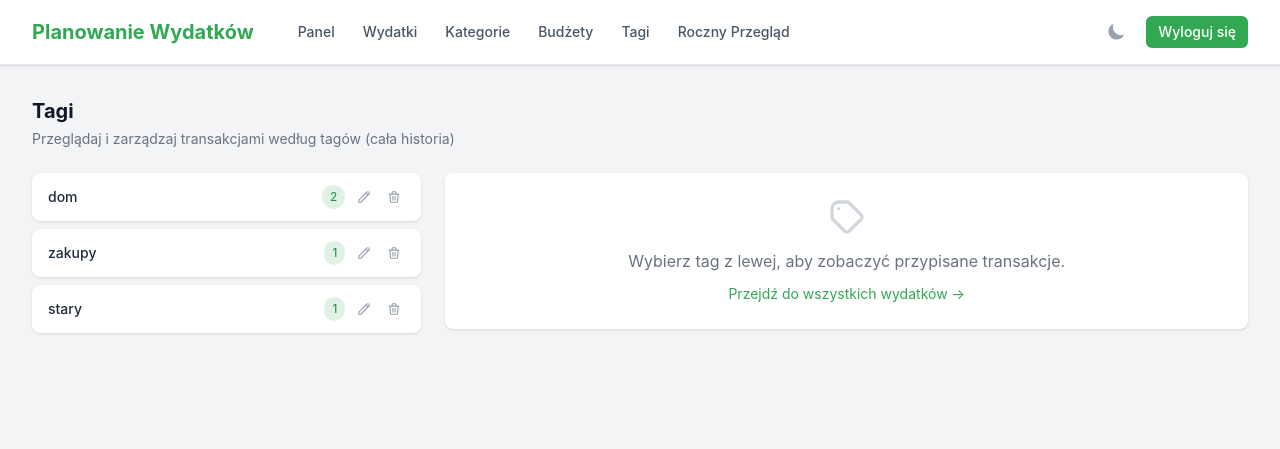
it: rename › Zapisz saves and closes the editor
The width and height of the screenshot is (1280, 449).
Check: the button "dom" is shown, box [48,187,314,207]
Click the 1st button named "Zmień nazwę tagu".
click(364, 197)  # box [353,186,375,208]
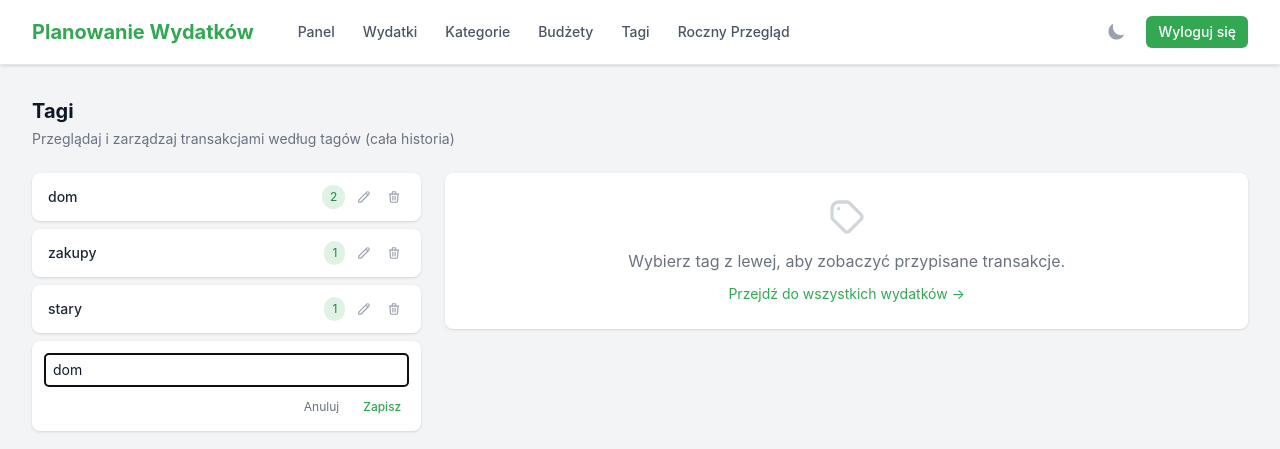
Type "house" into the field.
click(227, 370); type("house")  # box [44,353,409,387]
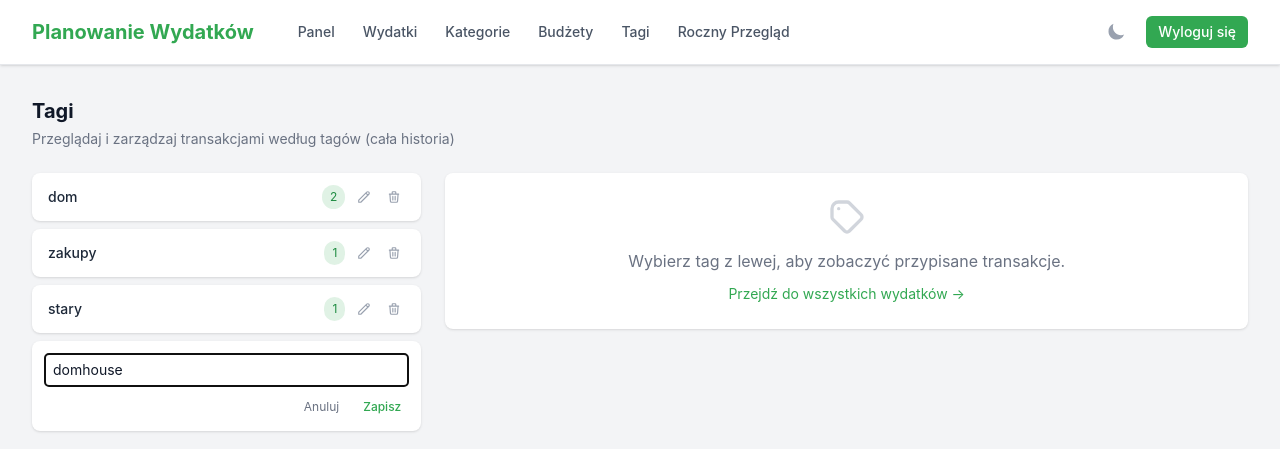
Click the button "Zapisz".
click(382, 407)  # box [355,395,409,419]
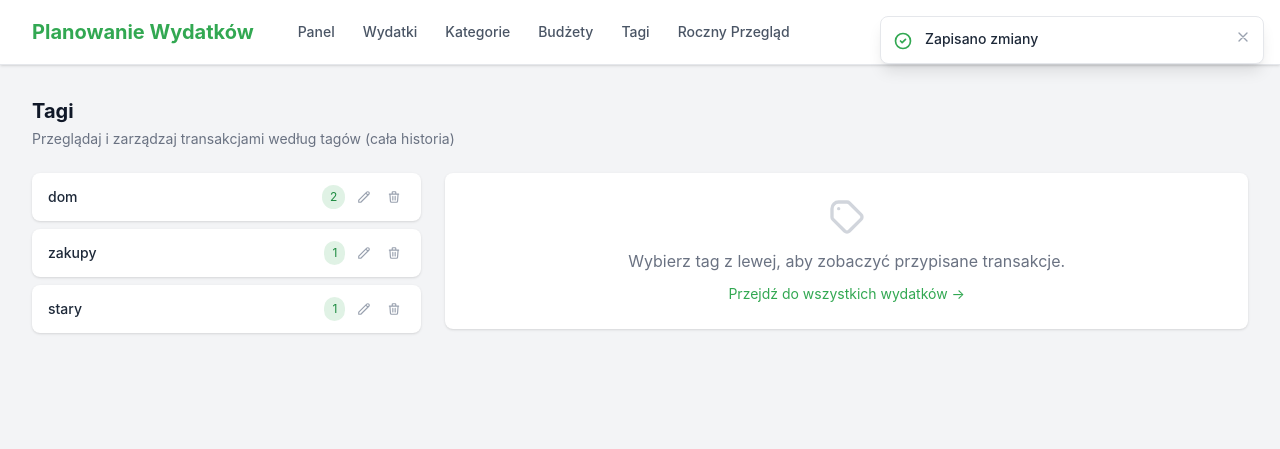
Check: the field is gone
